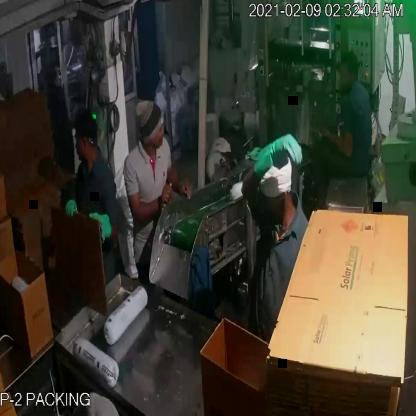glove: (251, 124, 306, 190), (86, 204, 114, 252), (61, 190, 82, 225)
no_glove: (120, 182, 176, 229), (311, 116, 359, 166), (163, 156, 196, 206)
